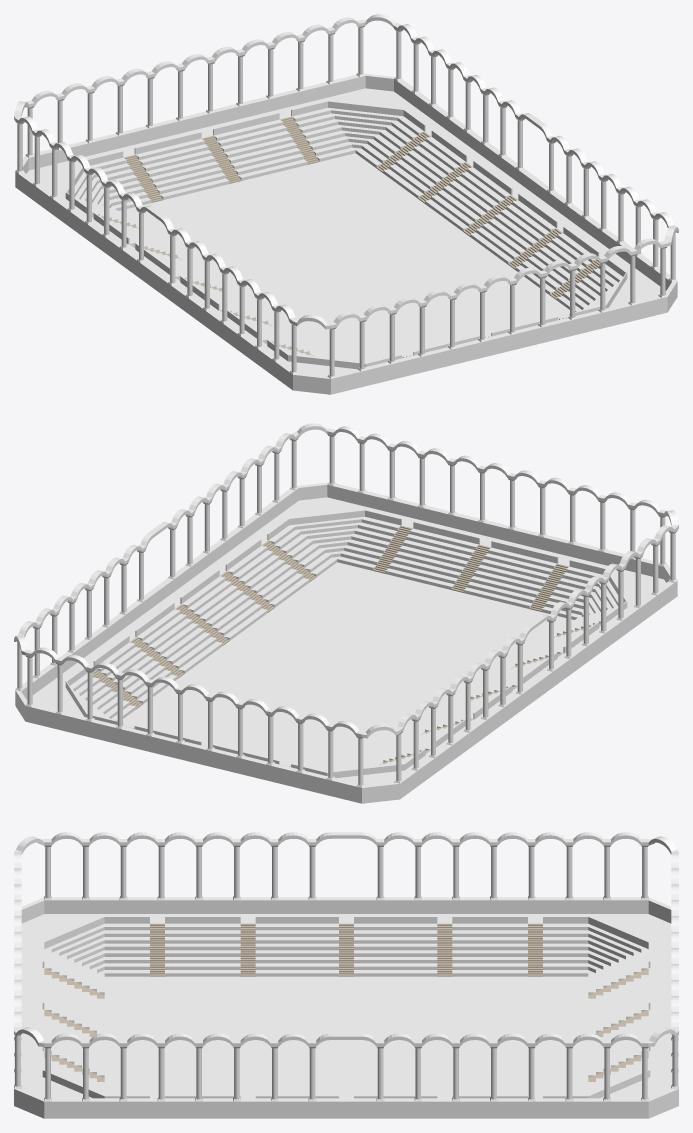
Rendered from macarena.dae.
The picture shows the model from 3 angles, top to bottom: view 1: azimuth 30°, elevation 25°; view 2: azimuth 150°, elevation 25°; view 3: azimuth 270°, elevation 25°; orthographic projection. The views are drawn at different scales.
Visible parts, largest first — view 1: macarena; view 2: macarena; view 3: macarena.
Boxes of the visible parts, box(x1,y1,x2,y2) form: macarena: box(14, 14, 678, 394); macarena: box(14, 423, 678, 803); macarena: box(14, 832, 678, 1118).
Size of the model in its own units: 64 by 88 by 17.54.
